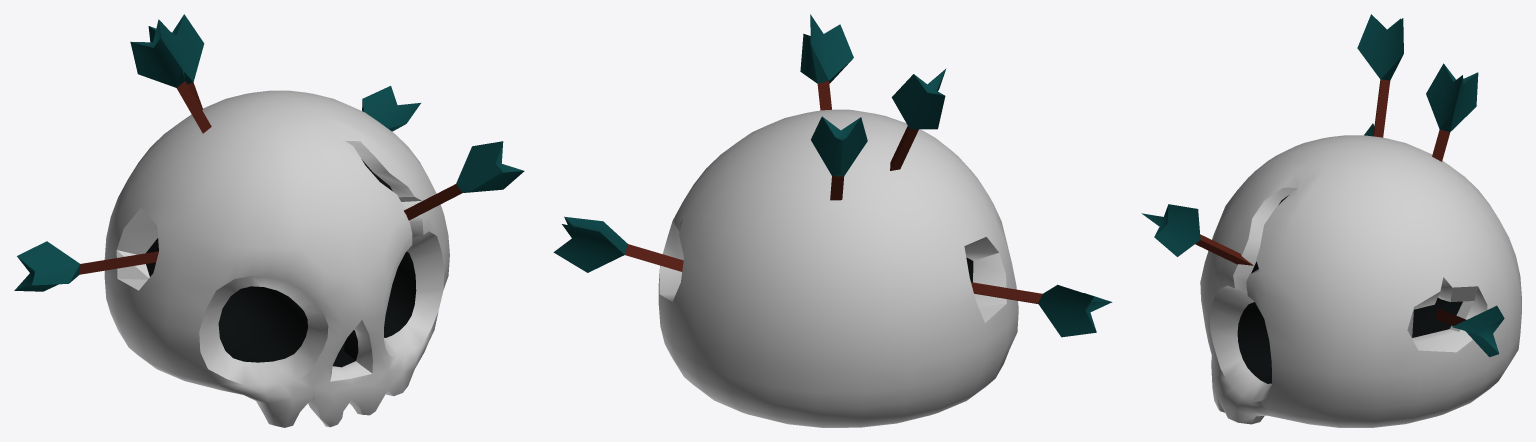
Rendered from Head02.fbx.
3 renders of one model, left to right at view 1: azimuth 30°, elevation 25°; view 2: azimuth 150°, elevation 25°; view 3: azimuth 270°, elevation 25°, orthographic. The views are drawn at different scales.
Parts seen in each view (by area): view 1: Head02; view 2: Head02; view 3: Head02.
Part boxes in pixels (x1=…): Head02: x1=14, y1=14, x2=524, y2=427; Head02: x1=553, y1=14, x2=1112, y2=427; Head02: x1=1141, y1=14, x2=1521, y2=427.
Bounding box in the file's own units: 145 × 108 × 108.
